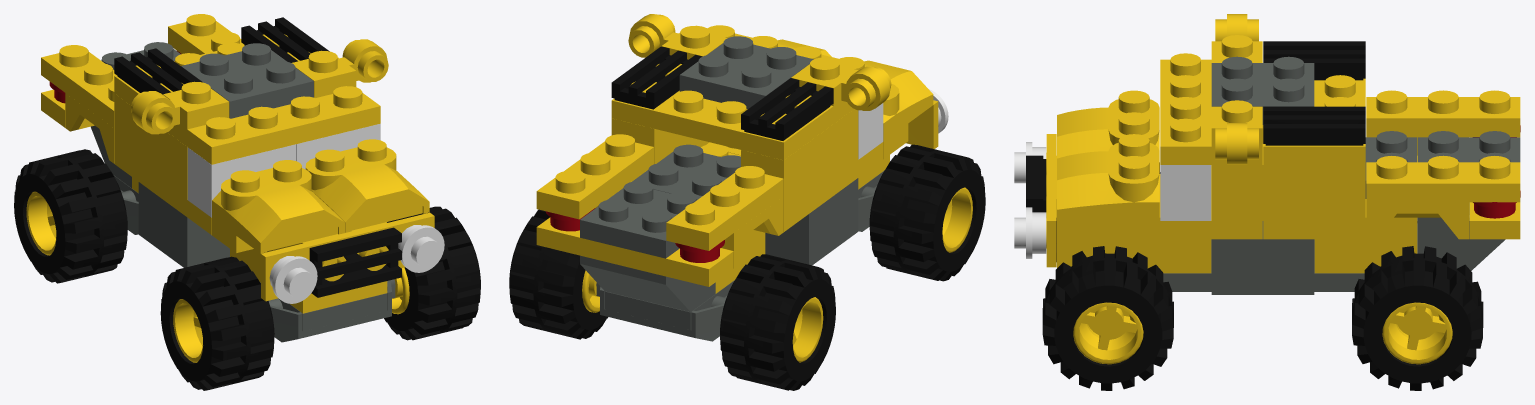
The model's file is minicar.glb.
3 views of the same model, side by side, from view 1: azimuth 30°, elevation 25°; view 2: azimuth 150°, elevation 25°; view 3: azimuth 270°, elevation 25° (orthographic). The views are drawn at different scales.
Visible parts, largest first — view 1: Part-87697 Tire-RR, Part-87697 Tire-FR, Part-3020.001, Part-41855.001, Part-41855, Part-87697 Tire-FL, Part-3022.001, Part-2412, Part-3001, Part-3623.001, Part-4081.001, Part-3622.001 (+24 smaller); view 2: Part-87697 Tire-FR, Part-87697 Tire-RR, Part-87697 Tire-RL, Part-3020, Part-3022.001, Part-3022.002, Part-3623.001, Part-3623, Part-3622.001, Part-3710.001, Part-3001, Part-3660 (+23 smaller); view 3: Part-87697 Tire-FL, Part-87697 Tire-RL, Part-3622, Part-41855, Part-3623, Part-3623.001, Part-3020.001, Part-3001, Part-3022.001, Part-3002, Part-41855.001, Part-2412.002 (+22 smaller).
Boxes of the visible parts, x1,y1,x2,y2 form: Part-87697 Tire-RR: (14, 149, 127, 283); Part-87697 Tire-FR: (160, 256, 274, 390); Part-3020.001: (167, 86, 380, 164); Part-41855.001: (212, 160, 344, 253); Part-41855: (305, 139, 429, 232); Part-87697 Tire-FL: (384, 206, 480, 340); Part-3022.001: (181, 43, 313, 118); Part-2412: (309, 227, 401, 297); Part-3001: (138, 182, 229, 267); Part-3623.001: (41, 45, 116, 127); Part-4081.001: (131, 81, 229, 134); Part-3622.001: (114, 94, 187, 199); Part-87697 Tire-FR: (869, 144, 985, 281); Part-87697 Tire-RR: (720, 254, 835, 390); Part-87697 Tire-RL: (509, 209, 608, 339); Part-3020: (611, 64, 833, 160); Part-3022.001: (679, 36, 813, 109); Part-3022.002: (580, 181, 696, 258); Part-3623.001: (666, 166, 783, 250); Part-3623: (536, 134, 653, 219); Part-3622.001: (741, 109, 858, 213); Part-3710.001: (536, 217, 733, 286); Part-3001: (765, 178, 858, 265); Part-3660: (580, 255, 715, 312); Part-87697 Tire-FL: (1042, 246, 1173, 390); Part-87697 Tire-RL: (1352, 246, 1483, 390); Part-3622: (1211, 144, 1365, 220); Part-41855: (1057, 134, 1159, 220); Part-3623: (1366, 155, 1520, 202); Part-3623.001: (1366, 90, 1520, 136); Part-3020.001: (1160, 53, 1262, 164); Part-3001: (1211, 221, 1314, 294); Part-3022.001: (1211, 56, 1314, 124); Part-3002: (1057, 174, 1211, 273); Part-41855.001: (1057, 90, 1159, 158); Part-2412.002: (1263, 106, 1365, 145).
Bounding box in the file's own units: 4.19 × 3.6 × 6.48.
